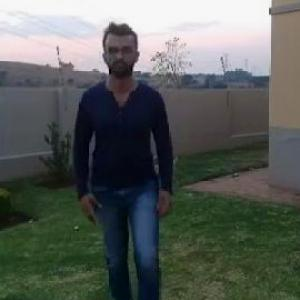follow: (74, 15, 174, 299)
